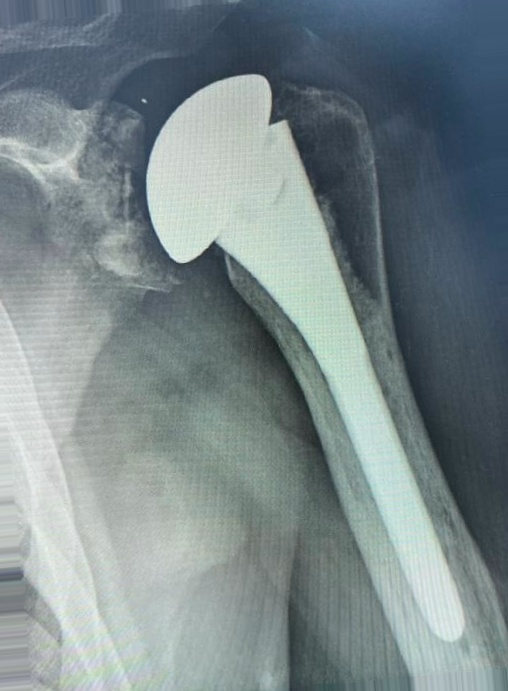Shoulder - Anotomical - Stryker: (145, 67, 338, 269)
